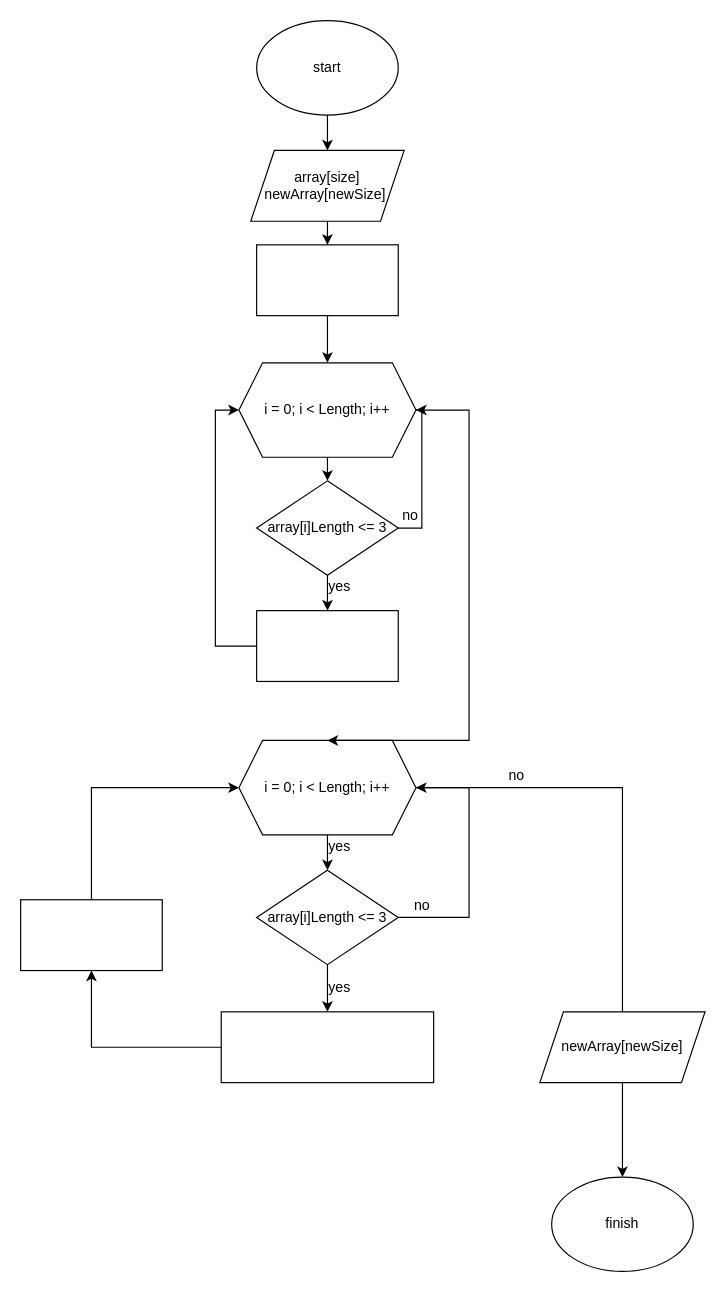
This 726x1292 diagram has some shape labels left out. Here are the shapes that lost their labels. From the top down, the box of each, then its label:
(255, 244, 398, 316): i = 0 j=0 newSize = 0
(255, 609, 398, 681): newSize++
(19, 899, 162, 971): j++
(220, 1011, 434, 1083): newArray[j] = array[i]
